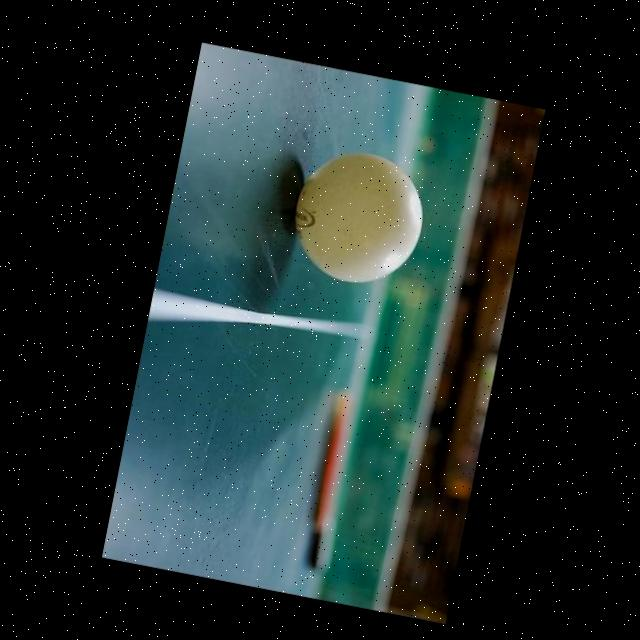ping-pong-ball: (281, 138, 437, 296)
